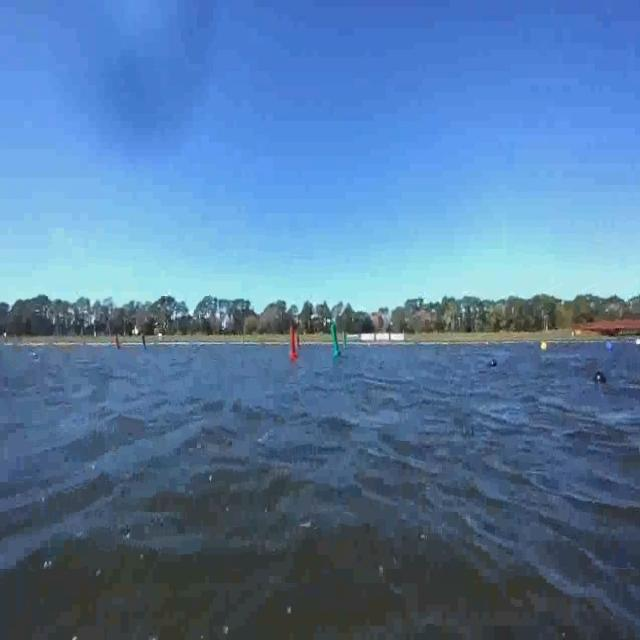black-buoy: (593, 370, 606, 386), (490, 359, 497, 369)
blue-buoy: (606, 341, 614, 353)
green-column-buoy: (332, 323, 344, 358), (141, 334, 149, 353)
red-column-buoy: (289, 328, 299, 360), (117, 334, 124, 352)
yellow-buoy: (539, 340, 548, 354)
